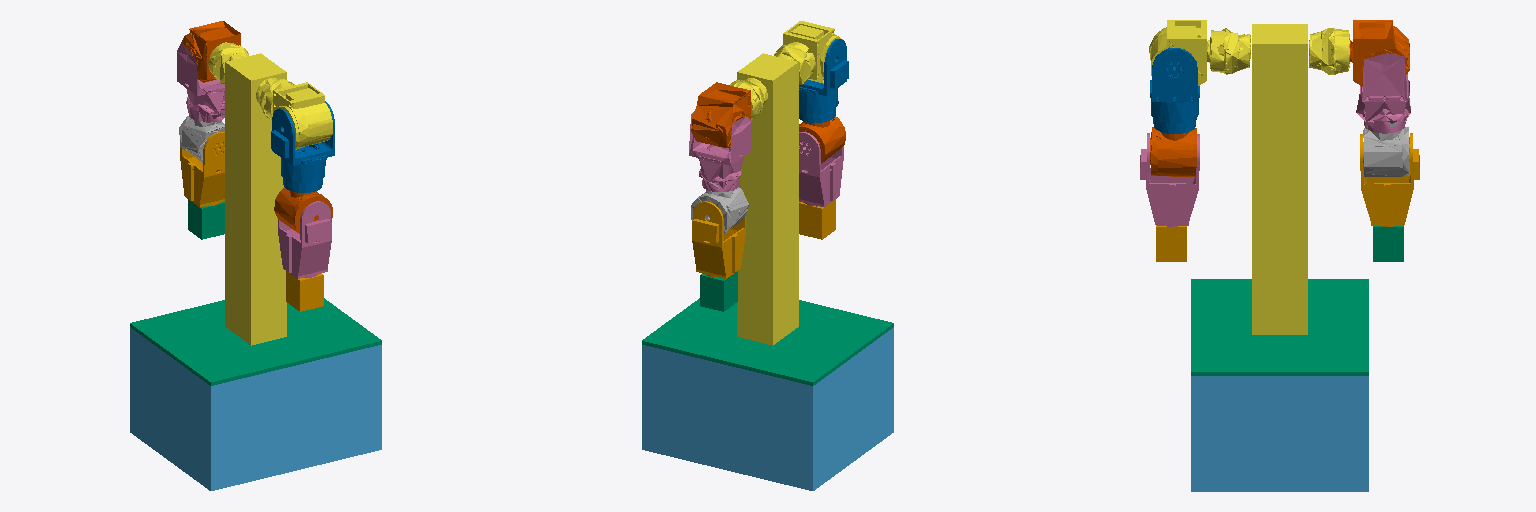
robot.urdf — b1_v1:
<?xml version="1.0"?>
<!-- 자동 생성: b1/models/v1/scripts/build_v1.py (week05, 박종진) — 손으로 고치지 말 것. 값: assumptions_b1.json -->
<robot name="b1_v1">
  <mujoco>
    <compiler strippath="false" fusestatic="false" discardvisual="false" balanceinertia="false"/>
  </mujoco>

  <link name="odom"/>
  <joint name="base_planar_joint" type="planar">
    <parent link="odom"/>
    <child link="base_link"/>
    <origin xyz="0 0 0" rpy="0 0 0"/>
    <axis xyz="0 0 1"/>
  </joint>
  <link name="base_link">
    <inertial>
      <origin xyz="0 0 0.219" rpy="0 0 0"/>
      <mass value="30"/>
      <inertia ixx="0.84257" iyy="1.11505" izz="1.3864" ixy="0" ixz="0" iyz="0"/>
    </inertial>
    <visual name="base_lower_visual">
      <origin xyz="0 0 0.219"/>
      <geometry><box size="0.576 0.472 0.338"/></geometry>
    </visual>
    <collision name="base_lower_collision">
      <origin xyz="0 0 0.219"/>
      <geometry><box size="0.576 0.472 0.338"/></geometry>
    </collision>
  </link>
  <joint name="base_plate_joint" type="fixed">
    <parent link="base_link"/>
    <child link="base_plate_link"/>
    <origin xyz="0 0 0.394" rpy="0 0 0"/>
  </joint>
  <link name="base_plate_link">
    <inertial>
      <origin xyz="0 0 0" rpy="0 0 0"/>
      <mass value="3.69"/>
      <inertia ixx="0.0685504" iyy="0.102065" izz="0.170527" ixy="0" ixz="0" iyz="0"/>
    </inertial>
    <visual name="base_plate_visual">
      <origin xyz="0 0 0"/>
      <geometry><box size="0.576 0.472 0.012"/></geometry>
    </visual>
    <collision name="base_plate_collision">
      <origin xyz="0 0 0"/>
      <geometry><box size="0.576 0.472 0.012"/></geometry>
    </collision>
  </link>

  <joint name="torso_fixed_joint" type="fixed">
    <parent link="base_link"/>
    <child link="torso_link"/>
    <origin xyz="0 0 1.2" rpy="0 0 0"/>
  </joint>
  <link name="torso_link">
    <inertial>
      <origin xyz="4.68203e-05 2.02102e-06 -0.248686" rpy="0 0 0"/>
      <mass value="12.0634"/>
      <inertia ixx="0.950137" iyy="0.876333" izz="0.0991423" ixy="-2.24738e-09" ixz="-0.000140461" iyz="0.000101804"/>
    </inertial>
    <visual name="torso_actuators_visual">
      <geometry><mesh filename="../meshes/visual/torso_link_visual.stl"/></geometry>
    </visual>
    <collision name="torso_actuators_collision">
      <geometry><mesh filename="../meshes/collision/torso_link_collision.stl"/></geometry>
    </collision>
    <visual name="torso_box_visual">
      <origin xyz="0 0 -0.375"/>
      <geometry><box size="0.12 0.15 0.85"/></geometry>
    </visual>
    <collision name="torso_box_collision">
      <origin xyz="0 0 -0.375"/>
      <geometry><box size="0.12 0.15 0.85"/></geometry>
    </collision>
  </link>
  <joint name="cad_frame_joint" type="fixed">
    <parent link="torso_link"/>
    <child link="cad_frame"/>
    <origin xyz="0 0.11815 0" rpy="1.5708 0 1.5708"/>
  </joint>
  <link name="cad_frame">
    <inertial>
      <mass value="0.001"/>
      <inertia ixx="1e-7" iyy="1e-7" izz="1e-7" ixy="0" ixz="0" iyz="0"/>
    </inertial>
  </link>

  <joint name="left_shoulder_pitch_joint" type="revolute">
    <parent link="torso_link"/>
    <child link="left_shoulder_pitch_link"/>
    <origin xyz="0 0.16975 0" rpy="0 0 0"/>
    <axis xyz="0 1 0"/>
    <limit lower="-3.0" upper="3.0" effort="381.7" velocity="3.0"/>
    <dynamics damping="0.5" friction="0.0"/>
  </joint>
  <link name="left_shoulder_pitch_link">
    <inertial>
      <origin xyz="0.000163 0.082815 -0.011301" rpy="0 0 0"/>
      <mass value="4.39632"/>
      <inertia ixx="0.0166562" iyy="0.0114135" izz="0.0147659" ixy="0.000299613" ixz="-0.000220698" iyz="0.000988489"/>
    </inertial>
    <visual name="left_shoulder_pitch_visual">
      <geometry><mesh filename="../meshes/visual/left_shoulder_pitch_link_visual.stl"/></geometry>
    </visual>
    <collision name="left_shoulder_pitch_collision">
      <geometry><mesh filename="../meshes/collision/left_shoulder_pitch_link_collision.stl"/></geometry>
    </collision>
  </link>
  <joint name="left_shoulder_roll_joint" type="revolute">
    <parent link="left_shoulder_pitch_link"/>
    <child link="left_shoulder_roll_link"/>
    <origin xyz="0 0.1079 -0.02" rpy="0 0 0"/>
    <axis xyz="1 0 0"/>
    <limit lower="-0.28" upper="1.5" effort="381.7" velocity="3.0"/>
    <dynamics damping="0.5" friction="0.0"/>
  </joint>
  <link name="left_shoulder_roll_link">
    <inertial>
      <origin xyz="-0.000215 0.000139 -0.095874" rpy="0 0 0"/>
      <mass value="4.1696"/>
      <inertia ixx="0.0208169" iyy="0.0247167" izz="0.0122861" ixy="3.651e-06" ixz="-0.00102148" iyz="-3.691e-06"/>
    </inertial>
    <visual name="left_shoulder_roll_visual">
      <geometry><mesh filename="../meshes/visual/left_shoulder_roll_link_visual.stl"/></geometry>
    </visual>
    <collision name="left_shoulder_roll_collision">
      <geometry><mesh filename="../meshes/collision/left_shoulder_roll_link_collision.stl"/></geometry>
    </collision>
  </link>
  <joint name="left_shoulder_yaw_joint" type="revolute">
    <parent link="left_shoulder_roll_link"/>
    <child link="left_shoulder_yaw_link"/>
    <origin xyz="0 0 -0.1823" rpy="0 0 -1.5708"/>
    <axis xyz="0 0 1"/>
    <limit lower="-2.5" upper="2.5" effort="381.7" velocity="3.0"/>
    <dynamics damping="0.5" friction="0.0"/>
  </joint>
  <link name="left_shoulder_yaw_link">
    <inertial>
      <origin xyz="-0.00379999 -0.001658 -0.077168" rpy="0 0 0"/>
      <mass value="3.33643"/>
      <inertia ixx="0.00984427" iyy="0.0100491" izz="0.00641762" ixy="-1.2339e-05" ixz="-0.000184265" iyz="-1.229e-06"/>
    </inertial>
    <visual name="left_shoulder_yaw_visual">
      <geometry><mesh filename="../meshes/visual/left_shoulder_yaw_link_visual.stl"/></geometry>
    </visual>
    <collision name="left_shoulder_yaw_collision">
      <geometry><mesh filename="../meshes/collision/left_shoulder_yaw_link_collision.stl"/></geometry>
    </collision>
  </link>
  <joint name="left_elbow_joint" type="revolute">
    <parent link="left_shoulder_yaw_link"/>
    <child link="left_elbow_link"/>
    <origin xyz="0 0 -0.0938" rpy="0 0 0"/>
    <axis xyz="1 0 0"/>
    <limit lower="-1.83" upper="1.83" effort="181.5" velocity="3.0"/>
    <dynamics damping="0.5" friction="0.0"/>
  </joint>
  <link name="left_elbow_link">
    <inertial>
      <origin xyz="-0.00366599 -0.001732 -0.079298" rpy="0 0 0"/>
      <mass value="2.26772"/>
      <inertia ixx="0.0144908" iyy="0.0178861" izz="0.00821005" ixy="-9.25e-07" ixz="-0.000888535" iyz="-8.733e-06"/>
    </inertial>
    <visual name="left_elbow_visual">
      <geometry><mesh filename="../meshes/visual/left_elbow_link_visual.stl"/></geometry>
    </visual>
    <collision name="left_elbow_collision">
      <geometry><mesh filename="../meshes/collision/left_elbow_link_collision.stl"/></geometry>
    </collision>
  </link>
  <joint name="left_tool0_joint" type="fixed">
    <parent link="left_elbow_link"/>
    <child link="left_tool0"/>
    <origin xyz="-0.009 0 -0.1989" rpy="0 0 0"/>
  </joint>
  <link name="left_tool0">
    <inertial>
      <mass value="0.001"/>
      <inertia ixx="1e-7" iyy="1e-7" izz="1e-7" ixy="0" ixz="0" iyz="0"/>
    </inertial>
  </link>
  <joint name="left_gripper_joint" type="fixed">
    <parent link="left_tool0"/>
    <child link="left_gripper_link"/>
    <origin xyz="0 0 0" rpy="0 0 0"/>
  </joint>
  <link name="left_gripper_link">
    <inertial>
      <origin xyz="0 0 -0.05" rpy="0 0 0"/>
      <mass value="0.5"/>
      <inertia ixx="0.000683333" iyy="0.000683333" izz="0.000533333" ixy="0" ixz="0" iyz="0"/>
    </inertial>
    <visual name="left_gripper_visual">
      <origin xyz="0 0 -0.05"/>
      <geometry><box size="0.08 0.08 0.1"/></geometry>
    </visual>
    <collision name="left_gripper_collision">
      <origin xyz="0 0 -0.05"/>
      <geometry><box size="0.08 0.08 0.1"/></geometry>
    </collision>
  </link>

  <joint name="right_shoulder_pitch_joint" type="revolute">
    <parent link="torso_link"/>
    <child link="right_shoulder_pitch_link"/>
    <origin xyz="0 -0.16975 0" rpy="0 0 0"/>
    <axis xyz="0 1 0"/>
    <limit lower="-3.0" upper="3.0" effort="381.7" velocity="3.0"/>
    <dynamics damping="0.5" friction="0.0"/>
  </joint>
  <link name="right_shoulder_pitch_link">
    <inertial>
      <origin xyz="0.000163 -0.082815 -0.011301" rpy="0 0 0"/>
      <mass value="4.39632"/>
      <inertia ixx="0.0166562" iyy="0.0114135" izz="0.0147659" ixy="-0.000299613" ixz="-0.000220698" iyz="-0.000988489"/>
    </inertial>
    <visual name="right_shoulder_pitch_visual">
      <geometry><mesh filename="../meshes/visual/right_shoulder_pitch_link_visual.stl"/></geometry>
    </visual>
    <collision name="right_shoulder_pitch_collision">
      <geometry><mesh filename="../meshes/collision/right_shoulder_pitch_link_collision.stl"/></geometry>
    </collision>
  </link>
  <joint name="right_shoulder_roll_joint" type="revolute">
    <parent link="right_shoulder_pitch_link"/>
    <child link="right_shoulder_roll_link"/>
    <origin xyz="0 -0.1079 -0.02" rpy="0 0 0"/>
    <axis xyz="-1 0 0"/>
    <limit lower="-0.28" upper="1.5" effort="381.7" velocity="3.0"/>
    <dynamics damping="0.5" friction="0.0"/>
  </joint>
  <link name="right_shoulder_roll_link">
    <inertial>
      <origin xyz="-0.000215 -0.000139 -0.095874" rpy="0 0 0"/>
      <mass value="4.1696"/>
      <inertia ixx="0.0208169" iyy="0.0247167" izz="0.0122861" ixy="-3.651e-06" ixz="-0.00102148" iyz="3.691e-06"/>
    </inertial>
    <visual name="right_shoulder_roll_visual">
      <geometry><mesh filename="../meshes/visual/right_shoulder_roll_link_visual.stl"/></geometry>
    </visual>
    <collision name="right_shoulder_roll_collision">
      <geometry><mesh filename="../meshes/collision/right_shoulder_roll_link_collision.stl"/></geometry>
    </collision>
  </link>
  <joint name="right_shoulder_yaw_joint" type="revolute">
    <parent link="right_shoulder_roll_link"/>
    <child link="right_shoulder_yaw_link"/>
    <origin xyz="0 0 -0.1823" rpy="0 0 1.5708"/>
    <axis xyz="0 0 -1"/>
    <limit lower="-2.5" upper="2.5" effort="381.7" velocity="3.0"/>
    <dynamics damping="0.5" friction="0.0"/>
  </joint>
  <link name="right_shoulder_yaw_link">
    <inertial>
      <origin xyz="-0.00379999 0.001658 -0.077168" rpy="0 0 0"/>
      <mass value="3.33643"/>
      <inertia ixx="0.00984427" iyy="0.0100491" izz="0.00641762" ixy="1.2339e-05" ixz="-0.000184265" iyz="1.229e-06"/>
    </inertial>
    <visual name="right_shoulder_yaw_visual">
      <geometry><mesh filename="../meshes/visual/right_shoulder_yaw_link_visual.stl"/></geometry>
    </visual>
    <collision name="right_shoulder_yaw_collision">
      <geometry><mesh filename="../meshes/collision/right_shoulder_yaw_link_collision.stl"/></geometry>
    </collision>
  </link>
  <joint name="right_elbow_joint" type="revolute">
    <parent link="right_shoulder_yaw_link"/>
    <child link="right_elbow_link"/>
    <origin xyz="0 0 -0.0938" rpy="0 0 0"/>
    <axis xyz="-1 0 0"/>
    <limit lower="-1.83" upper="1.83" effort="181.5" velocity="3.0"/>
    <dynamics damping="0.5" friction="0.0"/>
  </joint>
  <link name="right_elbow_link">
    <inertial>
      <origin xyz="-0.00366599 0.001732 -0.079298" rpy="0 0 0"/>
      <mass value="2.26772"/>
      <inertia ixx="0.0144908" iyy="0.0178861" izz="0.00821005" ixy="9.25e-07" ixz="-0.000888535" iyz="8.733e-06"/>
    </inertial>
    <visual name="right_elbow_visual">
      <geometry><mesh filename="../meshes/visual/right_elbow_link_visual.stl"/></geometry>
    </visual>
    <collision name="right_elbow_collision">
      <geometry><mesh filename="../meshes/collision/right_elbow_link_collision.stl"/></geometry>
    </collision>
  </link>
  <joint name="right_tool0_joint" type="fixed">
    <parent link="right_elbow_link"/>
    <child link="right_tool0"/>
    <origin xyz="-0.009 0 -0.1989" rpy="0 0 0"/>
  </joint>
  <link name="right_tool0">
    <inertial>
      <mass value="0.001"/>
      <inertia ixx="1e-7" iyy="1e-7" izz="1e-7" ixy="0" ixz="0" iyz="0"/>
    </inertial>
  </link>
  <joint name="right_gripper_joint" type="fixed">
    <parent link="right_tool0"/>
    <child link="right_gripper_link"/>
    <origin xyz="0 0 0" rpy="0 0 0"/>
  </joint>
  <link name="right_gripper_link">
    <inertial>
      <origin xyz="0 0 -0.05" rpy="0 0 0"/>
      <mass value="0.5"/>
      <inertia ixx="0.000683333" iyy="0.000683333" izz="0.000533333" ixy="0" ixz="0" iyz="0"/>
    </inertial>
    <visual name="right_gripper_visual">
      <origin xyz="0 0 -0.05"/>
      <geometry><box size="0.08 0.08 0.1"/></geometry>
    </visual>
    <collision name="right_gripper_collision">
      <origin xyz="0 0 -0.05"/>
      <geometry><box size="0.08 0.08 0.1"/></geometry>
    </collision>
  </link>

</robot>

--- What the picture shows (computed from the rendered views, not written in the file) ---
The picture shows the robot from 3 angles, left to right: view 1: azimuth 30°, elevation 25°; view 2: azimuth 150°, elevation 25°; view 3: azimuth 270°, elevation 25°; orthographic projection.
Robot: b1_v1 — 17 links, 16 joints (8 revolute, 7 fixed, 1 planar); root link odom; default pose: every joint at zero.
Links seen in each view (by area): view 1: base_link, torso_link, base_plate_link, right_elbow_link, right_shoulder_roll_link, right_shoulder_pitch_link, left_elbow_link, left_shoulder_roll_link, left_shoulder_pitch_link, right_shoulder_yaw_link, right_gripper_link, left_gripper_link (+1 smaller); view 2: base_link, torso_link, base_plate_link, left_elbow_link, left_shoulder_pitch_link, left_shoulder_roll_link, right_elbow_link, right_shoulder_roll_link, right_shoulder_pitch_link, left_gripper_link, left_shoulder_yaw_link, right_gripper_link (+1 smaller); view 3: torso_link, base_link, base_plate_link, right_shoulder_roll_link, left_shoulder_roll_link, left_elbow_link, right_elbow_link, left_shoulder_pitch_link, left_shoulder_yaw_link, right_shoulder_yaw_link, right_shoulder_pitch_link, left_gripper_link (+1 smaller).
Boxes of the visible links, <box> form: base_link: <box>130,327,381,490</box>; torso_link: <box>208,42,294,345</box>; base_plate_link: <box>130,298,381,385</box>; right_elbow_link: <box>278,201,331,278</box>; right_shoulder_roll_link: <box>271,101,334,192</box>; right_shoulder_pitch_link: <box>273,82,332,149</box>; left_elbow_link: <box>180,132,224,207</box>; left_shoulder_roll_link: <box>177,42,224,122</box>; left_shoulder_pitch_link: <box>182,21,240,82</box>; right_shoulder_yaw_link: <box>274,187,332,233</box>; right_gripper_link: <box>286,271,323,311</box>; left_gripper_link: <box>188,199,224,239</box>; base_link: <box>642,327,893,490</box>; torso_link: <box>730,42,815,345</box>; base_plate_link: <box>642,298,893,385</box>; left_elbow_link: <box>692,201,745,278</box>; left_shoulder_pitch_link: <box>691,82,750,147</box>; left_shoulder_roll_link: <box>689,112,751,191</box>; right_elbow_link: <box>799,132,843,207</box>; right_shoulder_roll_link: <box>799,39,848,122</box>; right_shoulder_pitch_link: <box>783,21,842,83</box>; left_gripper_link: <box>700,271,737,311</box>; left_shoulder_yaw_link: <box>691,182,748,233</box>; right_gripper_link: <box>799,199,835,239</box>; torso_link: <box>1210,24,1349,334</box>; base_link: <box>1191,376,1368,491</box>; base_plate_link: <box>1191,279,1368,375</box>; right_shoulder_roll_link: <box>1150,48,1199,133</box>; left_shoulder_roll_link: <box>1356,53,1410,133</box>; left_elbow_link: <box>1360,133,1419,226</box>; right_elbow_link: <box>1140,133,1199,226</box>; left_shoulder_pitch_link: <box>1342,20,1409,86</box>; left_shoulder_yaw_link: <box>1363,121,1409,176</box>; right_shoulder_yaw_link: <box>1150,127,1196,176</box>; right_shoulder_pitch_link: <box>1149,20,1209,85</box>; left_gripper_link: <box>1373,225,1403,261</box>.
Size in the robot's own frame: 0.576 by 0.7392 by 1.22 metres.
9 mesh visuals loaded from 9 distinct referenced files (9 binary STL).
